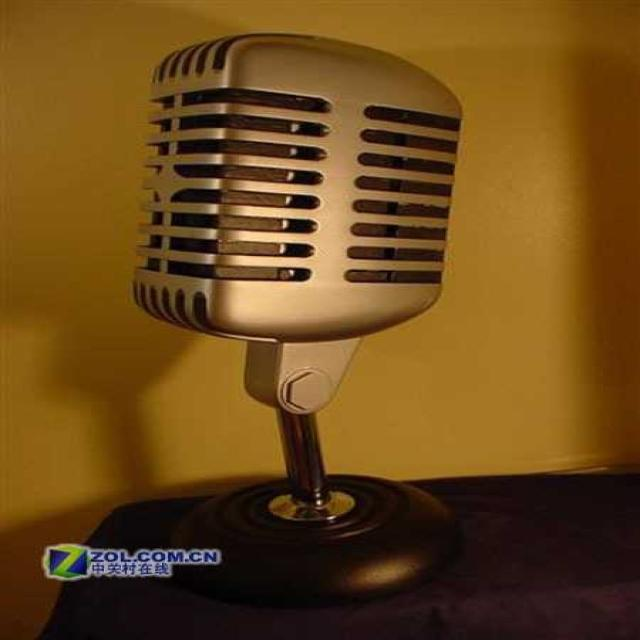microphone: (132, 34, 469, 598)
